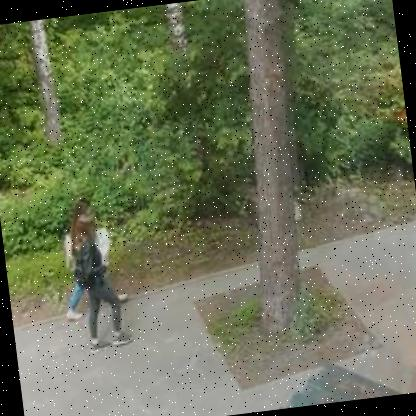person: (44, 183, 134, 358)
tree: (207, 0, 342, 350)
